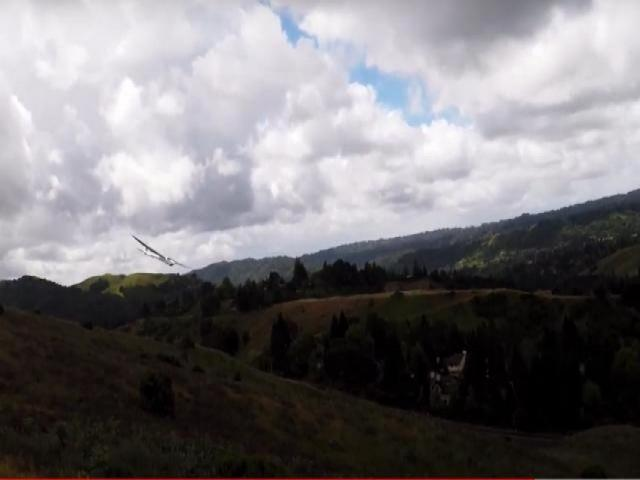iha: (124, 234, 194, 268)
